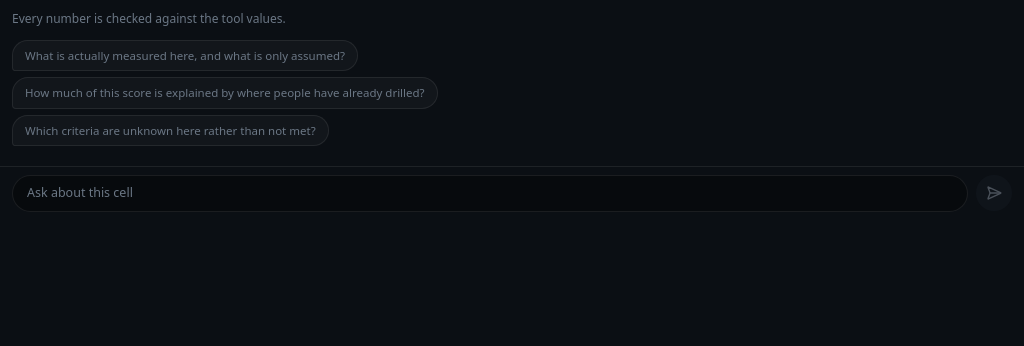
Test: the chat panel with the interface agent › shows a recorded insight with its expert-tier id and the values minted from it
This screenshot has width=1024, height=346.
Click the button "What is actually measured here, and what is only assumed?".
click(185, 56)  # box left=12, top=40, right=358, bottom=71
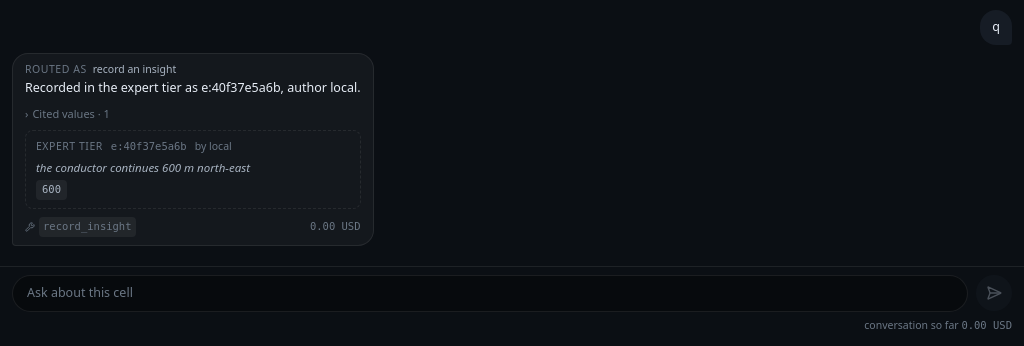
Check: the element with test id "chat-insight" shows "e:40f37e5a6b", box left=111, top=140, right=187, bottom=152
Check: the element with test id "chat-insight" shows "by local", box left=25, top=130, right=360, bottom=209
